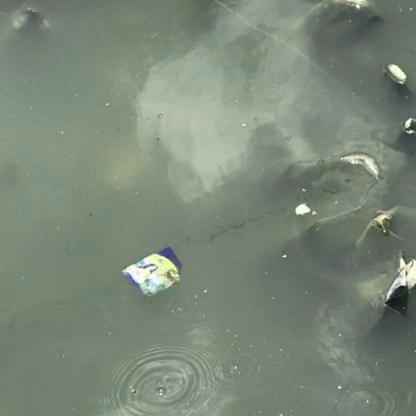Trash: (122, 247, 187, 300)
